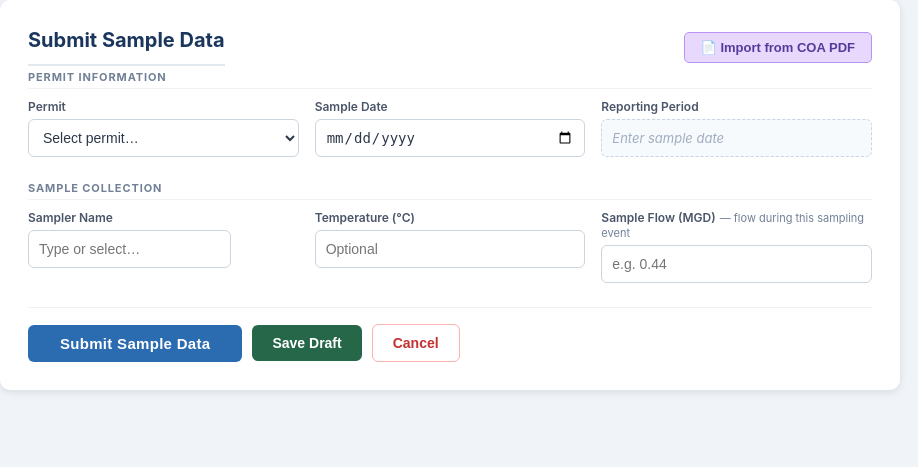
Test: SampleForm — draft persistence › Save Draft button writes to localStorage and shows confirmation
The image size is (918, 467).
Step 1. Click the button "Save Draft" → coordinates (307, 343), box [252,325,362,361]
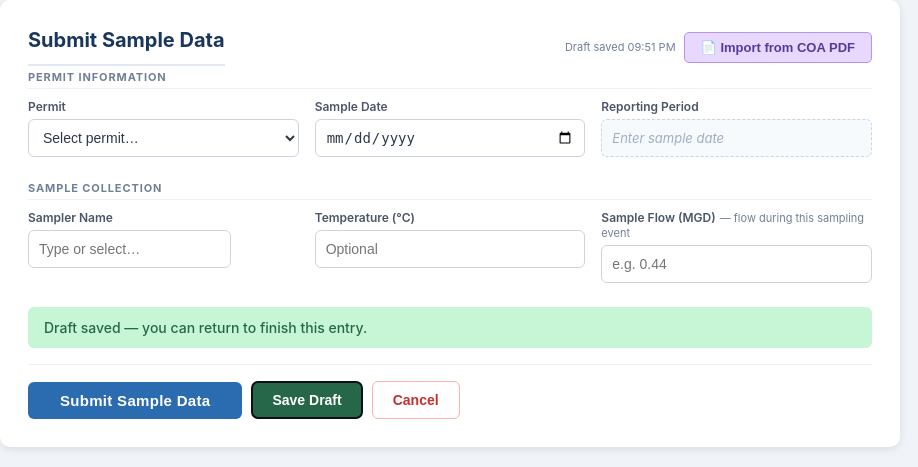
Expected: the text "Draft saved — you can return to finish this entry." is shown, [28,307,872,348]
